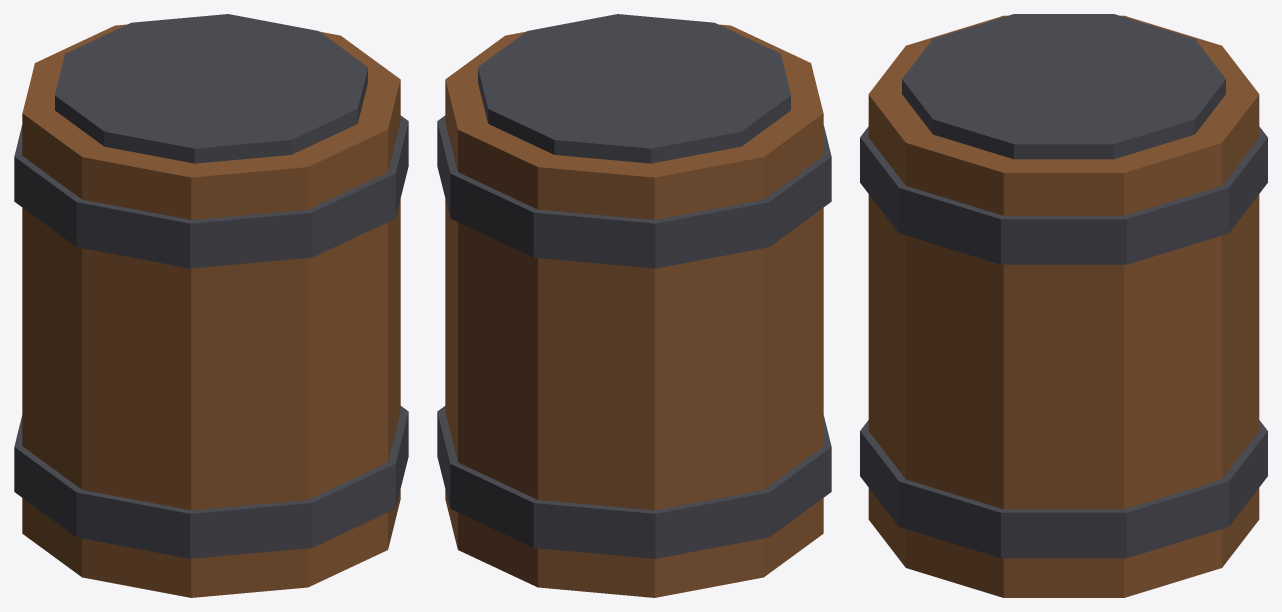
File: barrel.glb
The picture shows the model from 3 angles, left to right: view 1: azimuth 30°, elevation 25°; view 2: azimuth 150°, elevation 25°; view 3: azimuth 270°, elevation 25°; orthographic projection.
Parts seen in each view (by area): view 1: barrel_body, barrel_lid, barrel_band_low, barrel_band_high; view 2: barrel_body, barrel_lid, barrel_band_low, barrel_band_high; view 3: barrel_body, barrel_lid, barrel_band_low, barrel_band_high.
Part boxes in pixels (left/top/right/bottom): barrel_body: left=22, top=24, right=400, bottom=597; barrel_lid: left=55, top=14, right=367, bottom=163; barrel_band_low: left=14, top=406, right=408, bottom=558; barrel_band_high: left=14, top=115, right=408, bottom=268; barrel_body: left=445, top=24, right=823, bottom=597; barrel_lid: left=478, top=14, right=790, bottom=163; barrel_band_low: left=437, top=406, right=831, bottom=558; barrel_band_high: left=437, top=115, right=831, bottom=268; barrel_body: left=868, top=15, right=1259, bottom=597; barrel_lid: left=902, top=14, right=1225, bottom=159; barrel_band_low: left=860, top=420, right=1267, bottom=558; barrel_band_high: left=860, top=126, right=1267, bottom=264.
Size of the model in its own units: 0.6943 by 0.87 by 0.73.
